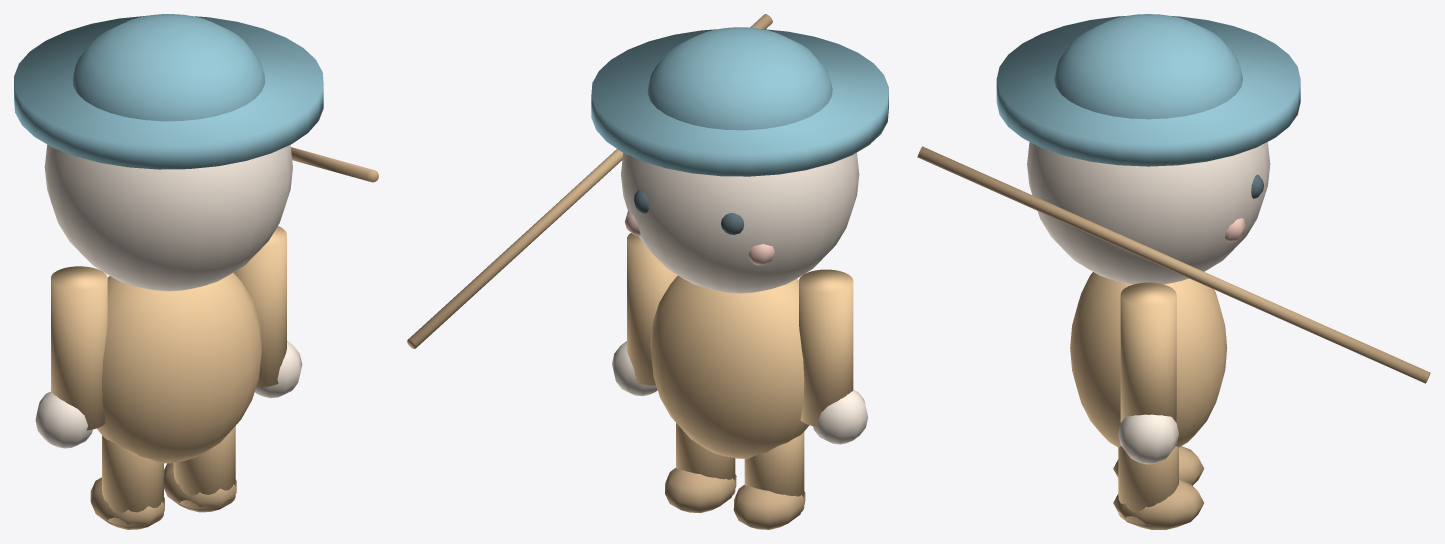
Rendered from dad_lowpoly.glb.
The picture shows the model from 3 angles, left to right: view 1: azimuth 30°, elevation 25°; view 2: azimuth 150°, elevation 25°; view 3: azimuth 270°, elevation 25°; orthographic projection. The views are drawn at different scales.
Visible parts, largest first — view 1: Dad; view 2: Dad; view 3: Dad.
Part boxes in pixels (x1,y1,x2,y2): Dad: (14, 14, 378, 529); Dad: (407, 14, 888, 529); Dad: (917, 14, 1430, 529).
Bounding box in the file's own units: 0.7567 × 1.05 × 1.01.
